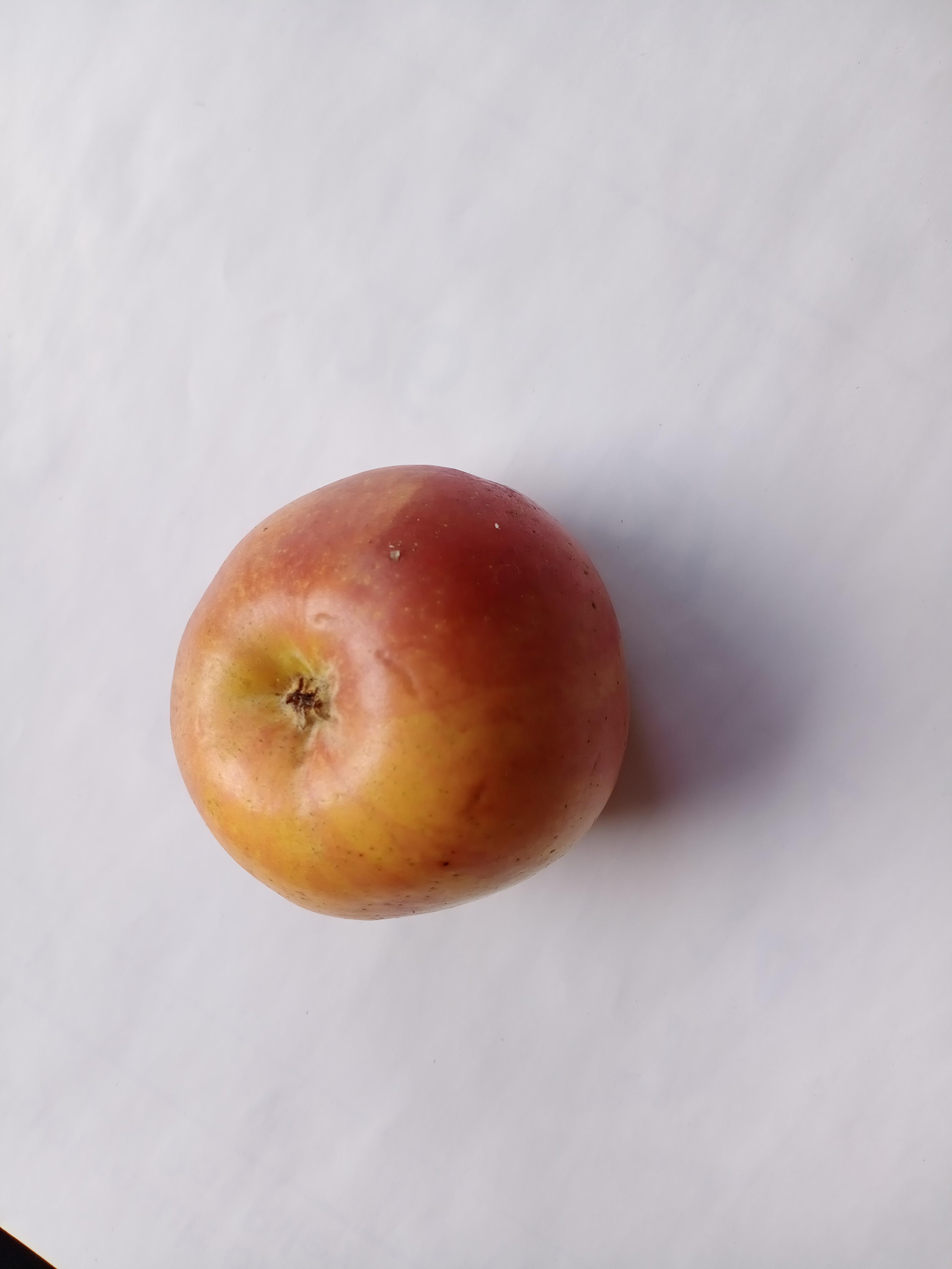Apple Ripe: (124, 416, 669, 969)
